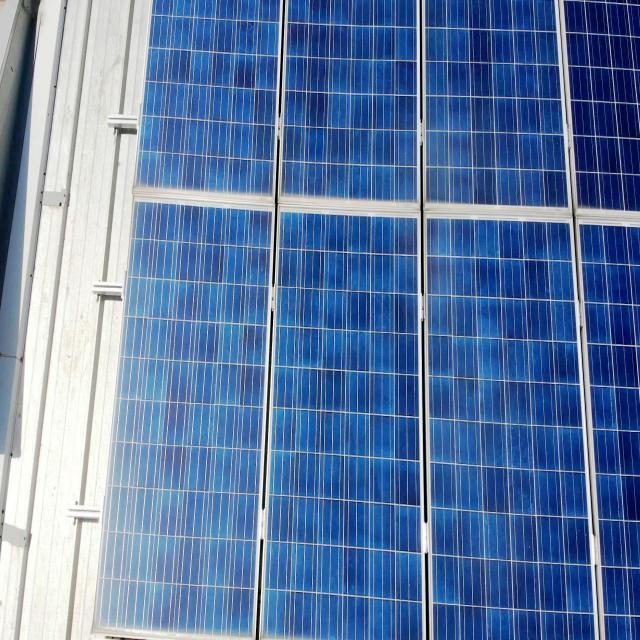no faulty: (135, 0, 640, 211), (92, 197, 271, 640), (428, 208, 600, 638), (272, 202, 428, 637)
